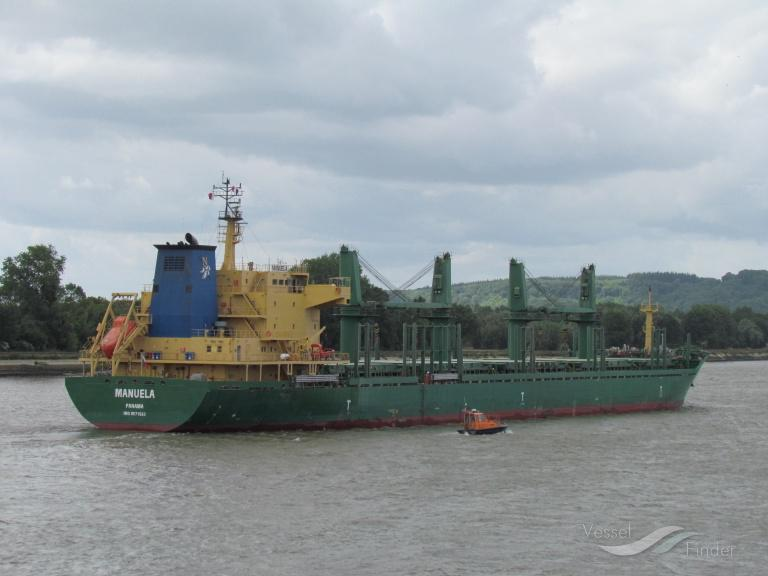OCR: (112, 378, 163, 421)
